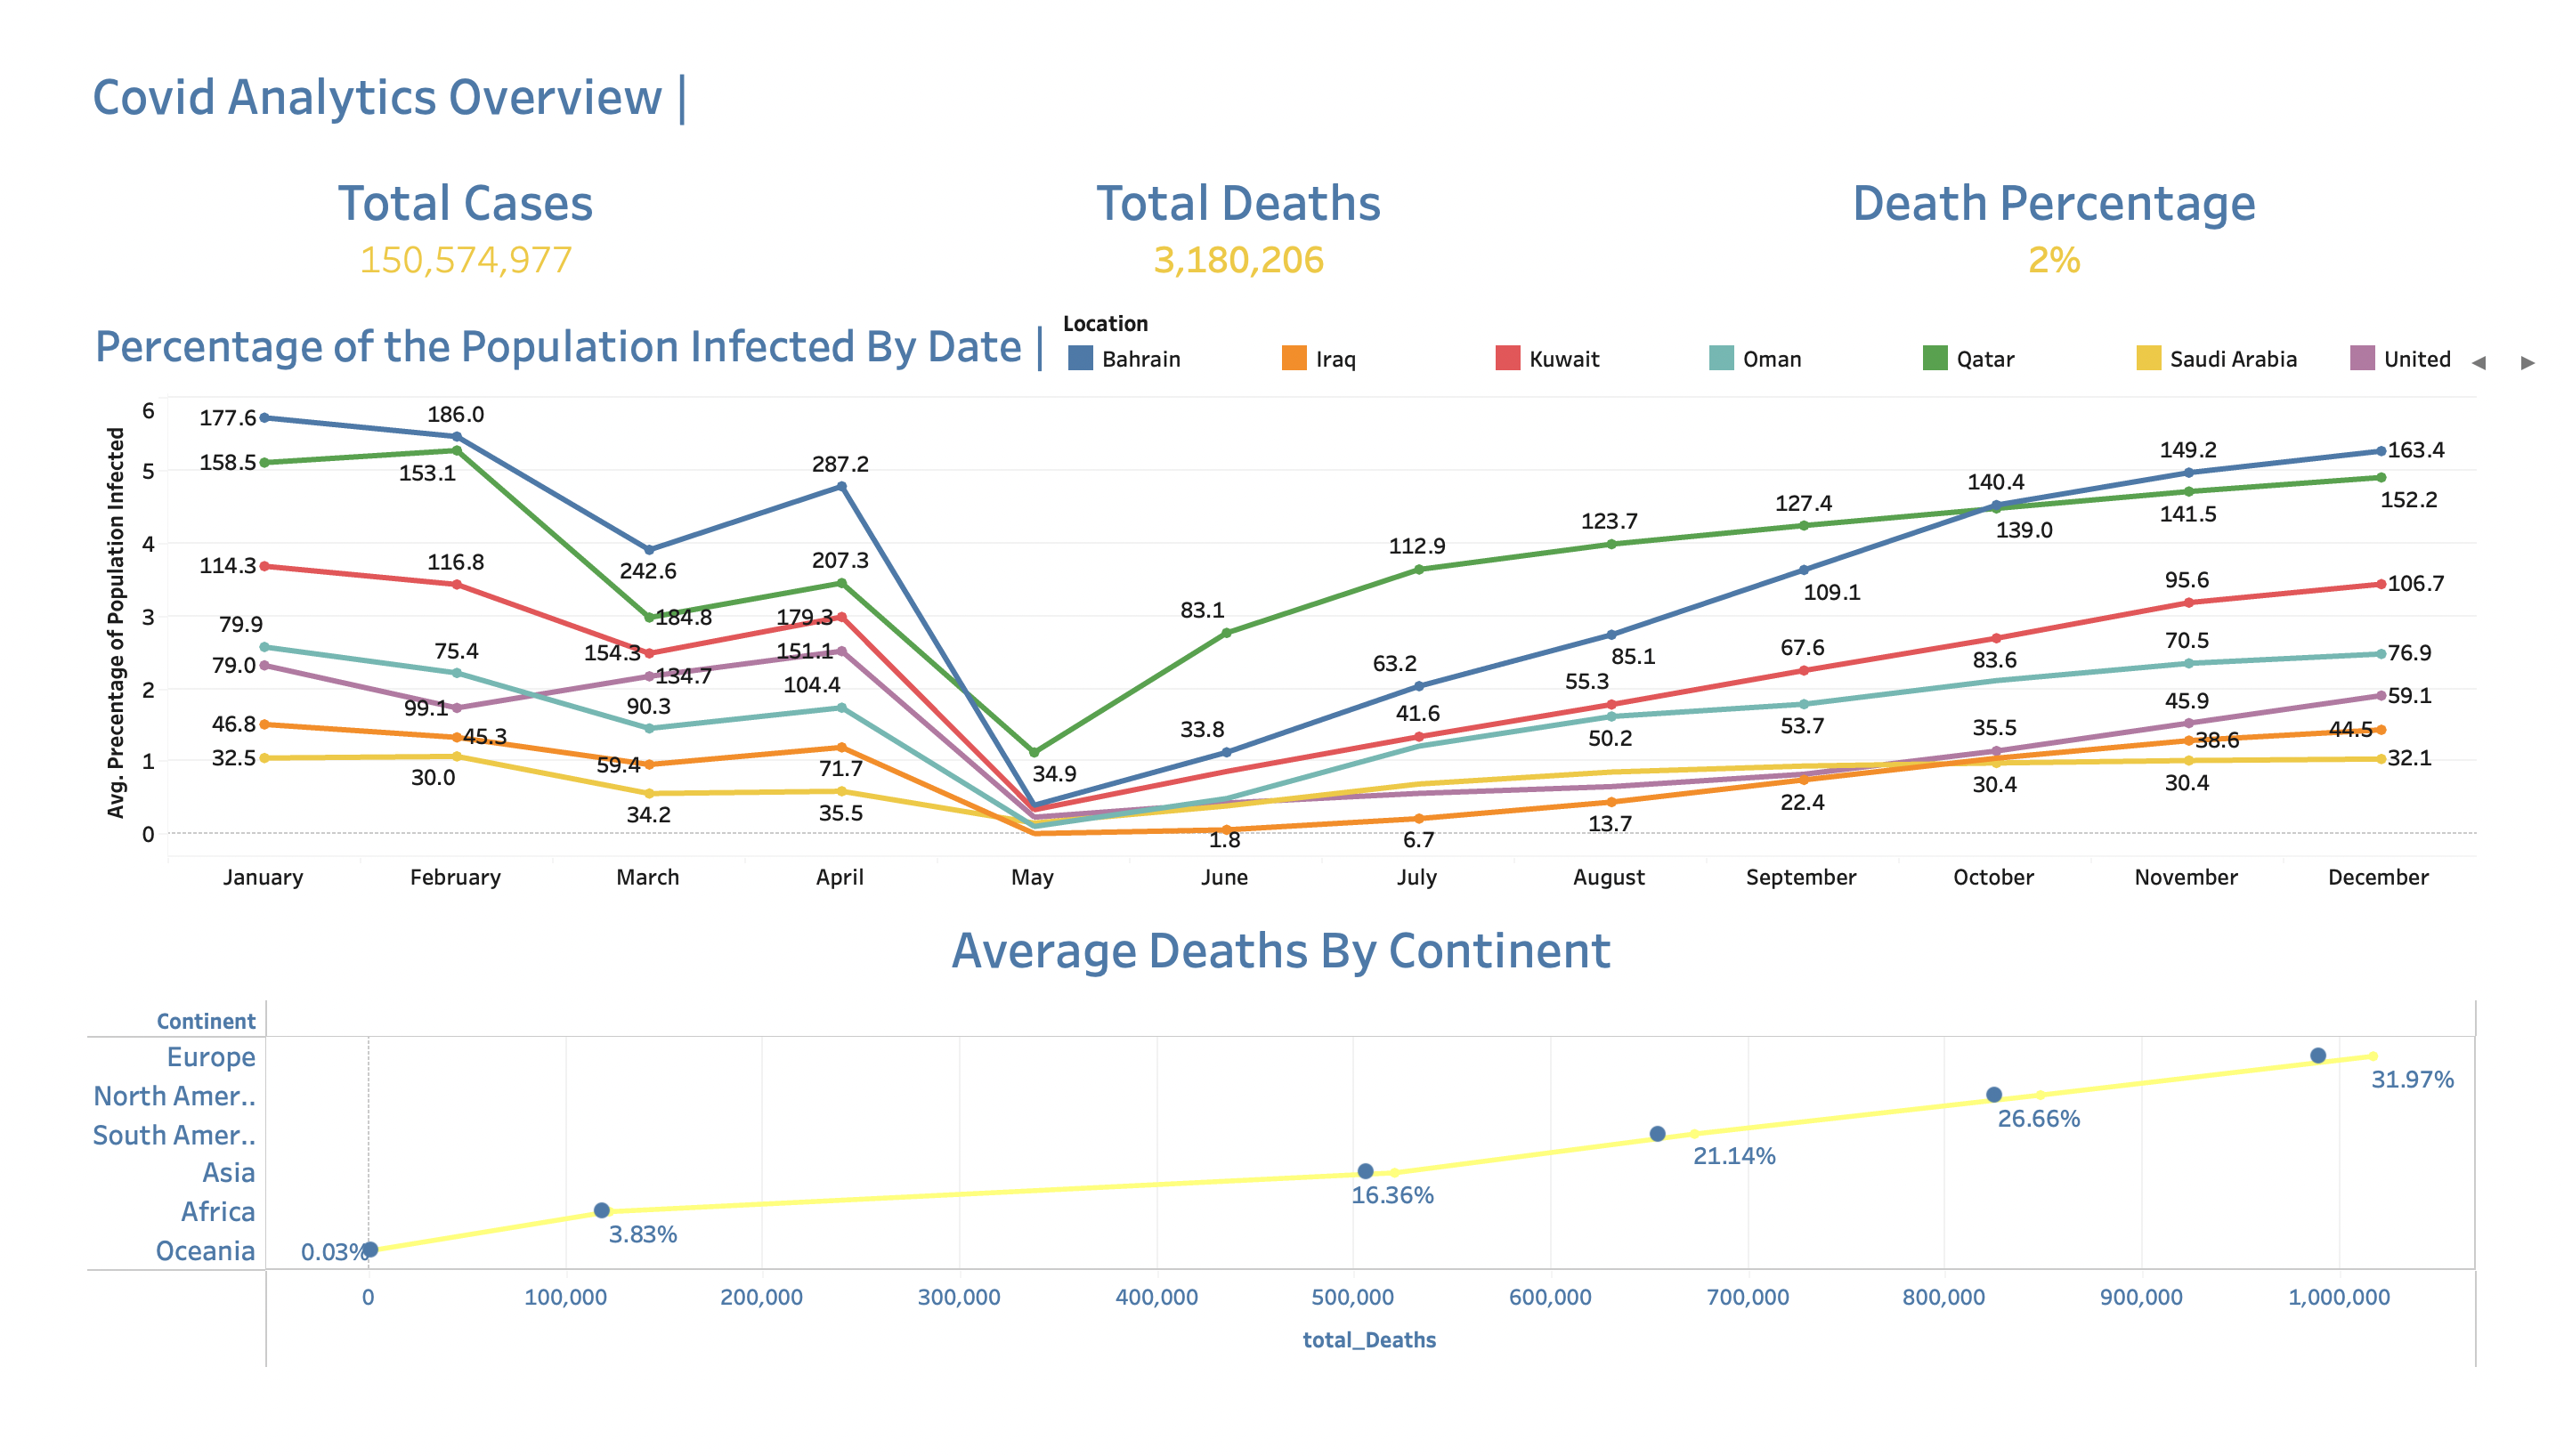

The dashboard page shown, as its layout file describes it:
{"tool":"tableau","page":{"name":"Dashboard 1","canvas":[1000,800],"ordinal":0},"visuals":[{"type":"worksheet","title":"Sheet 2","mark":"Automatic","rows":["total_Deaths"],"cols":["location"],"box":[8,8,412,784]},{"type":"worksheet","title":"Sheet 3","mark":"Automatic","box":[420,8,412,392]},{"type":"legend","title":"Sheet 2","param":"[federated.0bc55dz0yajysc1fgwuwr0ogtkei].[none:location:nk]","box":[832,8,160,146]},{"type":"legend","title":"Sheet 3","param":"[federated.133rai60epao7j14lc7yu0pmbf0e].[sum:Precentage_of_Population_Infected:","box":[832,154,160,65]},{"type":"legend","title":"Sheet 4","param":"[federated.008hzpl0gv25ri15fjk9q1jj80pi].[none:location:nk]","box":[832,219,160,166]},{"type":"worksheet","title":"Sheet 4","mark":"Automatic","rows":["Precentage_of_Population_Infected"],"cols":["date"],"box":[420,400,412,196]},{"type":"worksheet","title":"Sheet 1","mark":"Automatic","box":[420,596,412,196]}]}

Visuals, with their boxes on the page's 1000x800 design canvas (x1, y1, x2, y2). These are canvas units, not pixel positions in the 2564x1456 screenshot, which may show the page scaled, cropped or inside an application window:
"Sheet 2" worksheet: (8,8,420,792)
"Sheet 3" worksheet: (420,8,832,400)
"Sheet 2" legend: (832,8,992,154)
"Sheet 3" legend: (832,154,992,219)
"Sheet 4" legend: (832,219,992,385)
"Sheet 4" worksheet: (420,400,832,596)
"Sheet 1" worksheet: (420,596,832,792)
